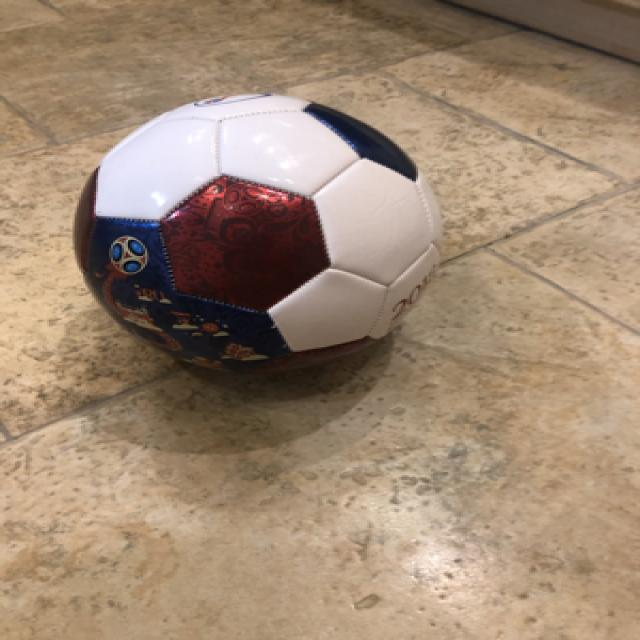soccer_ball: (68, 92, 444, 374)
